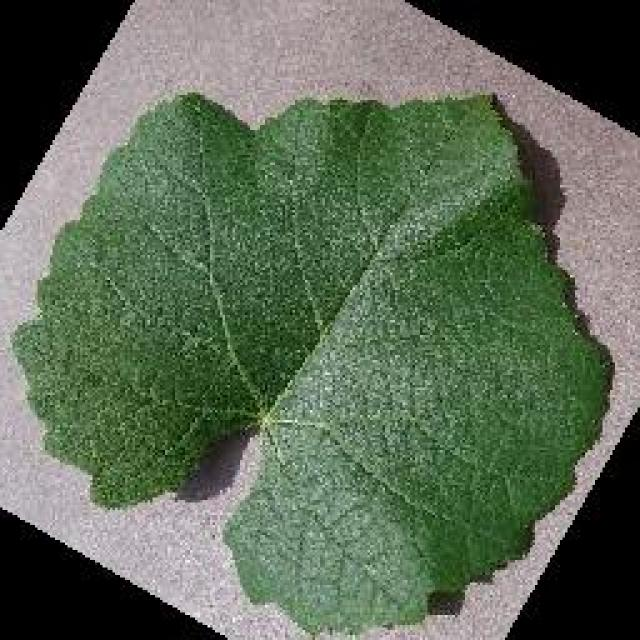Grape___healthy: (12, 92, 605, 632)
